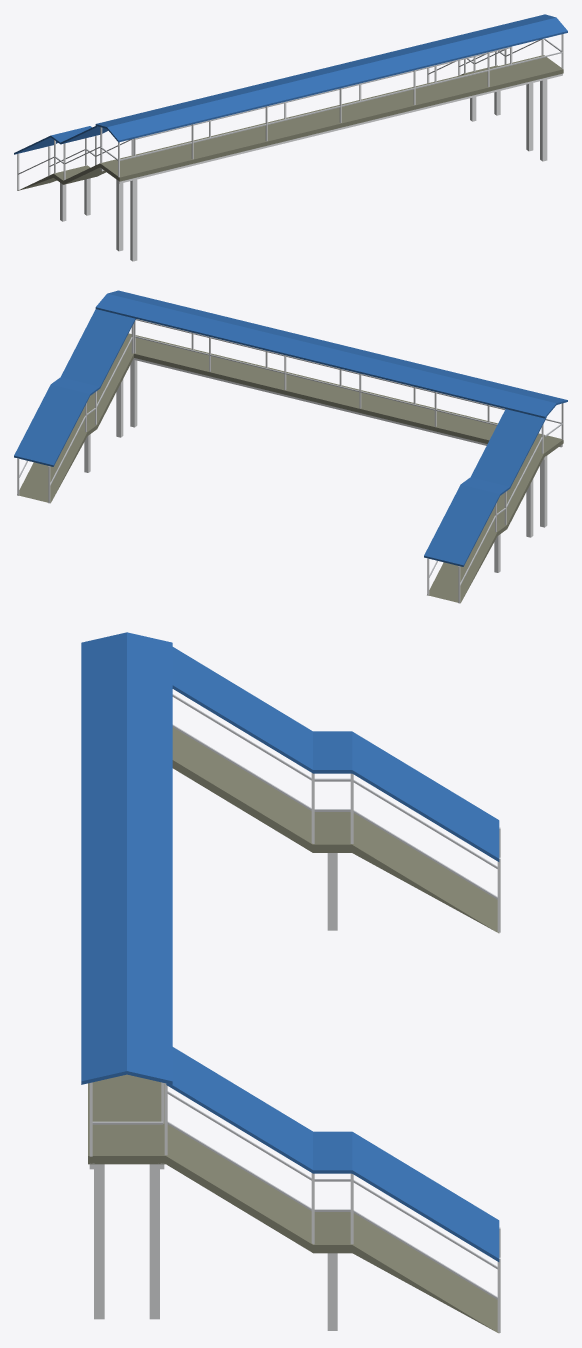
File: 112_far.fbx
3 views of the same model, one above another, from view 1: azimuth 30°, elevation 25°; view 2: azimuth 150°, elevation 25°; view 3: azimuth 270°, elevation 25° (orthographic). The views are drawn at different scales.
Visible parts, largest first — view 1: Footbridge_112_far; view 2: Footbridge_112_far; view 3: Footbridge_112_far.
Part boxes in pixels (left/top/right/bottom): Footbridge_112_far: left=14, top=14, right=567, bottom=261; Footbridge_112_far: left=14, top=290, right=567, bottom=603; Footbridge_112_far: left=81, top=632, right=500, bottom=1333.
Size of the model in its own units: 31.8 by 8.97 by 12.84.
